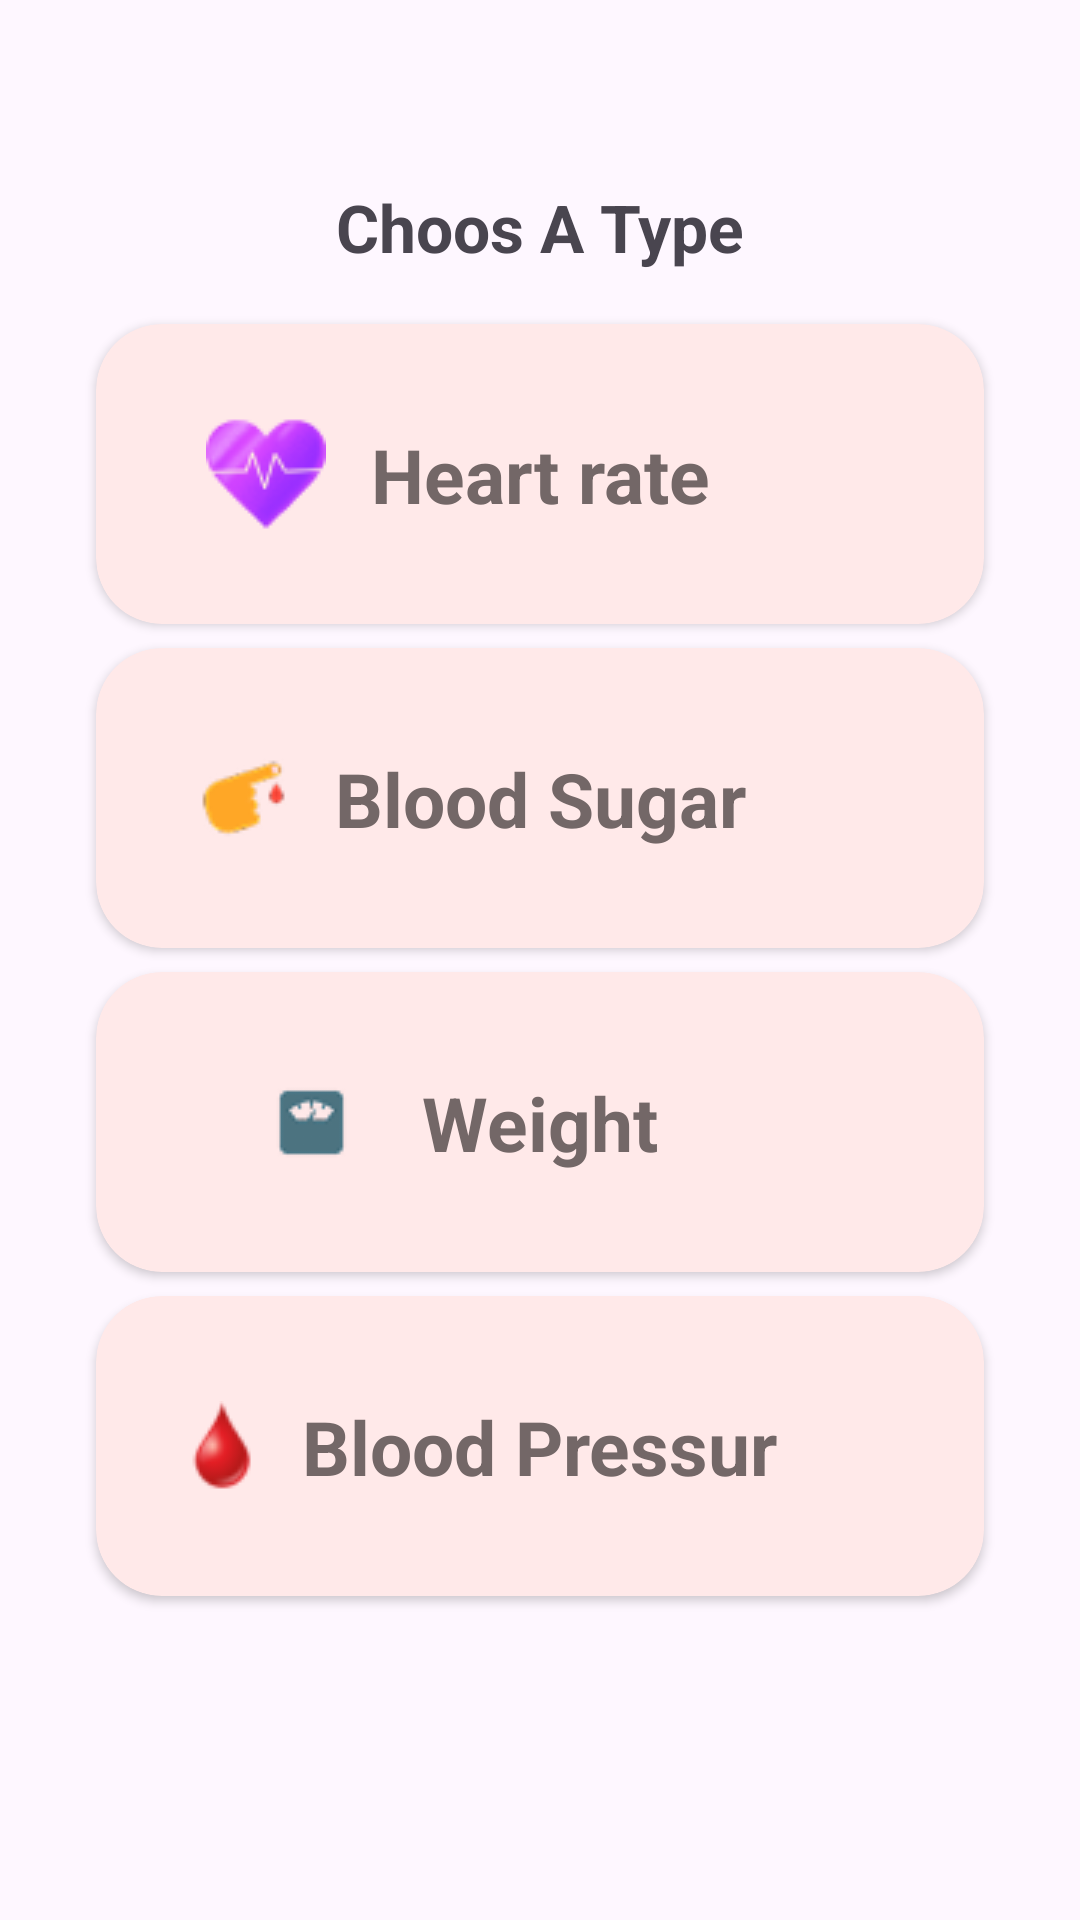

Point at icon controls on the screen. Image size 1080×1920, points as (x=x, y=y).
addsugar: (x=243, y=797)
